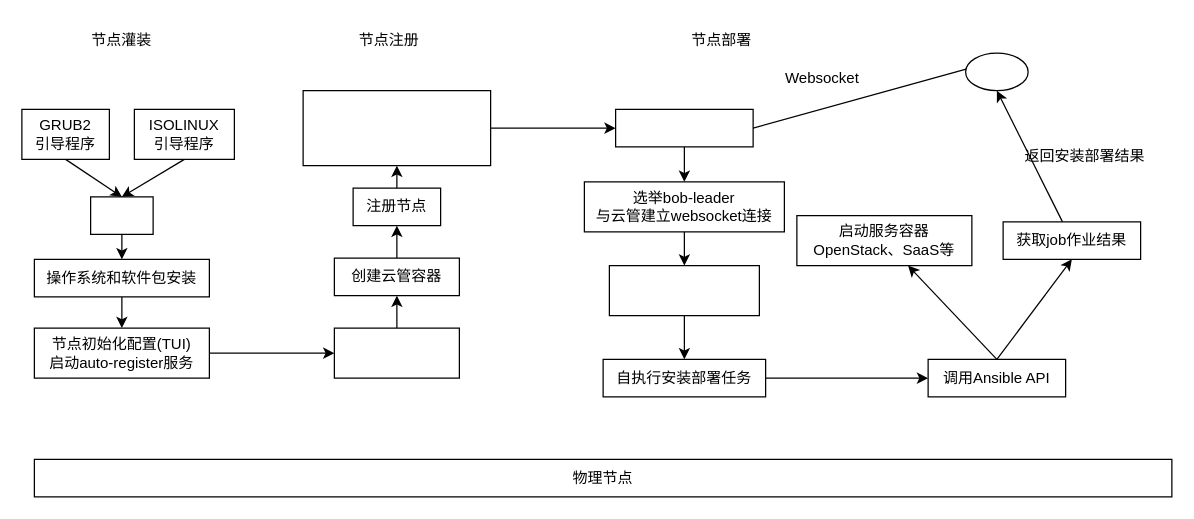
Some shapes in this 1194 by 519 pixel diagram are drawn without their labels. Here are the shapes that lost their labels. From the top down, the box of each, then its label:
(964, 52, 1028, 91): 云管
(302, 89, 491, 166): 拉取云管配置 配置网络 启动consul/nomad服务
(614, 108, 753, 147): 启动awbob服务
(89, 196, 153, 234): ks.cfg
(608, 264, 759, 316): 查询consul配置中 集群状态
(333, 327, 459, 378): 清理节点环境 配置管理网
